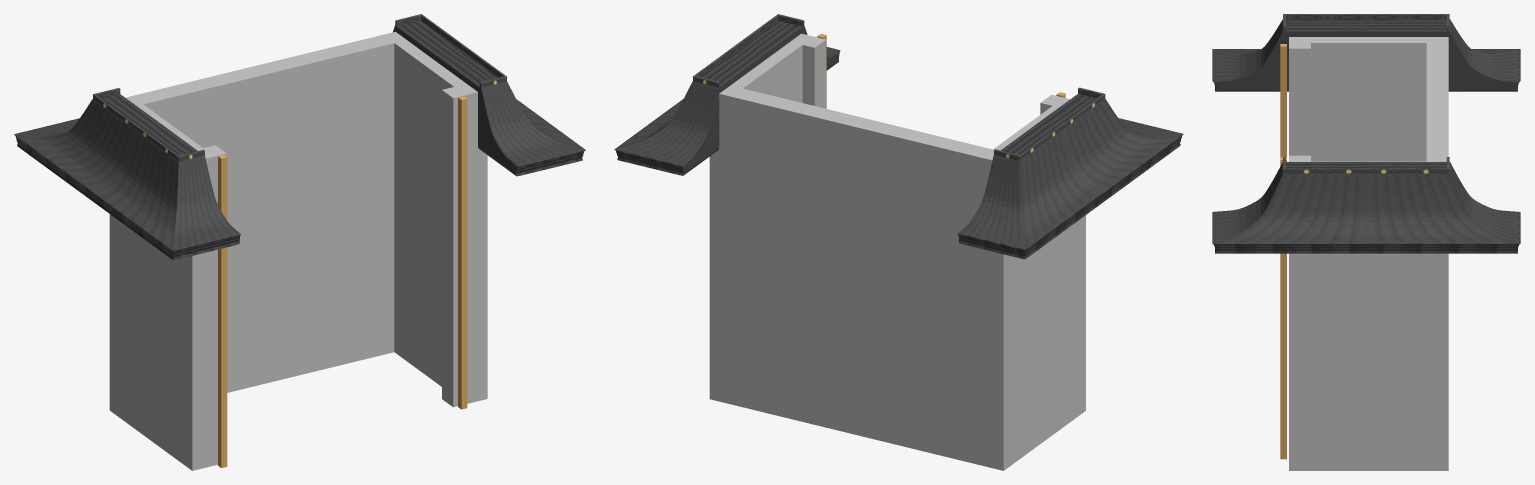
File: BuildingPartUVUnraped.fbx
3 renders of one model, left to right at view 1: azimuth 30°, elevation 25°; view 2: azimuth 150°, elevation 25°; view 3: azimuth 270°, elevation 25°, orthographic. The views are drawn at different scales.
Visible parts, largest first — view 1: Cube.004, CurvedRoof.001, FrameHorizontal.001; view 2: Cube.004, CurvedRoof.001; view 3: Cube.004, CurvedRoof.001, FrameHorizontal.001.
Boxes of the visible parts, x1,y1,x2,y2 form: Cube.004: [109, 31, 487, 470]; CurvedRoof.001: [14, 14, 585, 260]; FrameHorizontal.001: [218, 96, 467, 467]; Cube.004: [709, 33, 1085, 470]; CurvedRoof.001: [614, 14, 1183, 259]; Cube.004: [1289, 37, 1448, 470]; CurvedRoof.001: [1212, 14, 1520, 253]; FrameHorizontal.001: [1280, 44, 1286, 459].
Size of the model in its own units: 2798 by 2071 by 1871.
